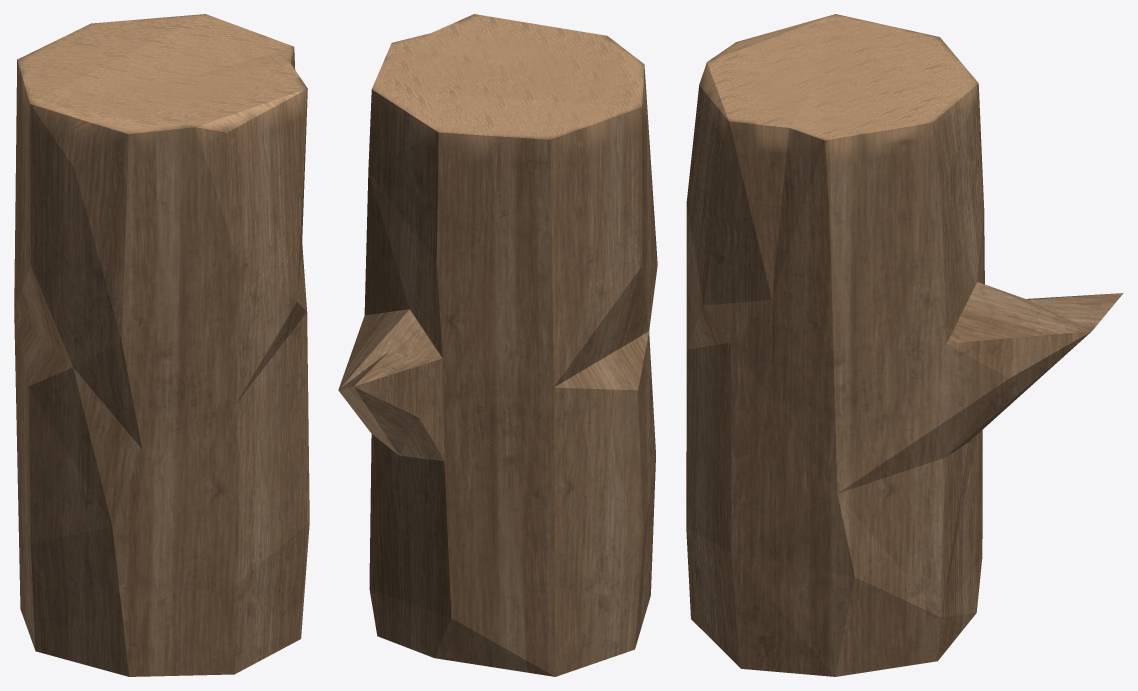
The model's file is TroncoMadeira.fbx.
The picture shows the model from 3 angles, left to right: view 1: azimuth 30°, elevation 25°; view 2: azimuth 150°, elevation 25°; view 3: azimuth 270°, elevation 25°; orthographic projection.
Visible parts, largest first — view 1: TroncoMadeira; view 2: TroncoMadeira; view 3: TroncoMadeira.
Part boxes in pixels (x1,y1,x2,y2): TroncoMadeira: (14,14,309,676); TroncoMadeira: (338,14,657,676); TroncoMadeira: (686,14,1123,676).
Bounding box in the file's own units: 49.91 × 101 × 72.96.
Materials: 1 (1 with a texture image).
